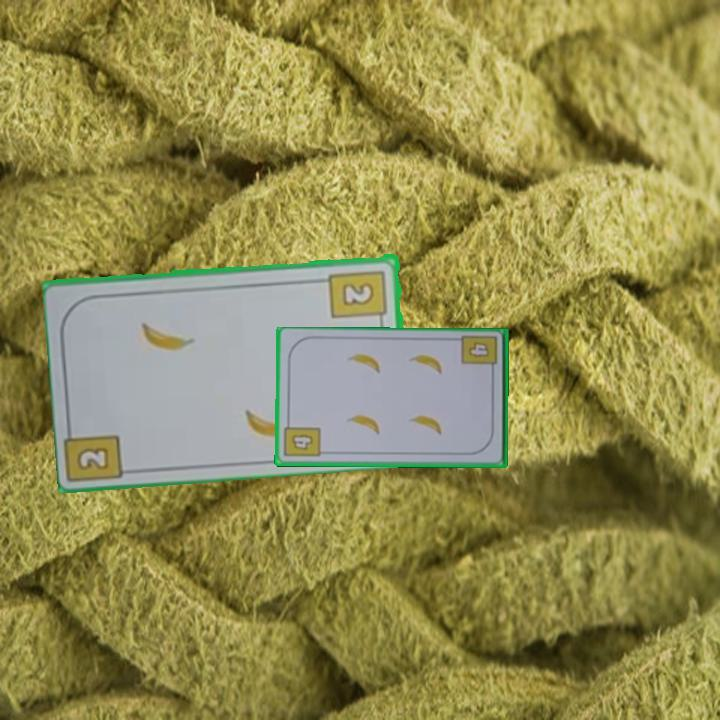2b: (326, 266, 391, 327), (73, 443, 113, 474)
4b: (281, 417, 323, 460), (459, 333, 500, 377)
